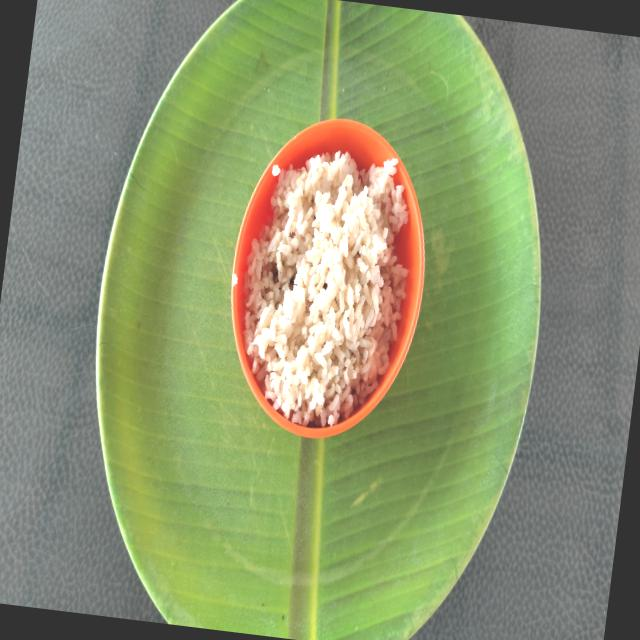brown-rice: (244, 151, 407, 427)
